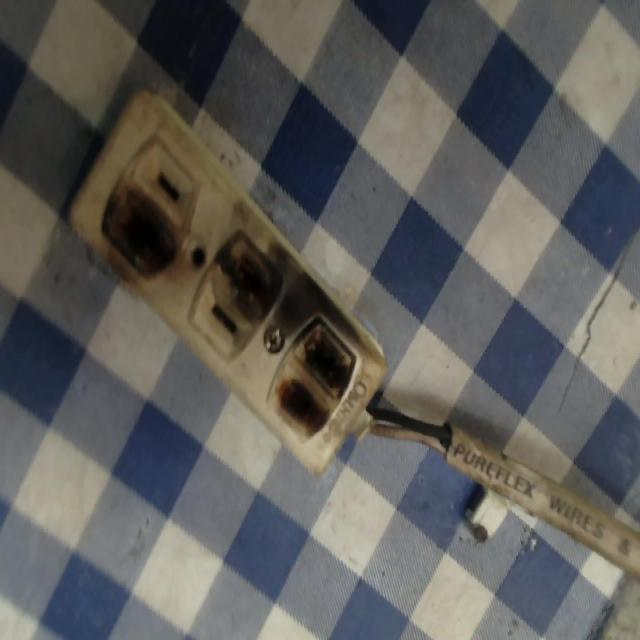-: (263, 313, 360, 448), (89, 184, 185, 288), (216, 206, 290, 318)
